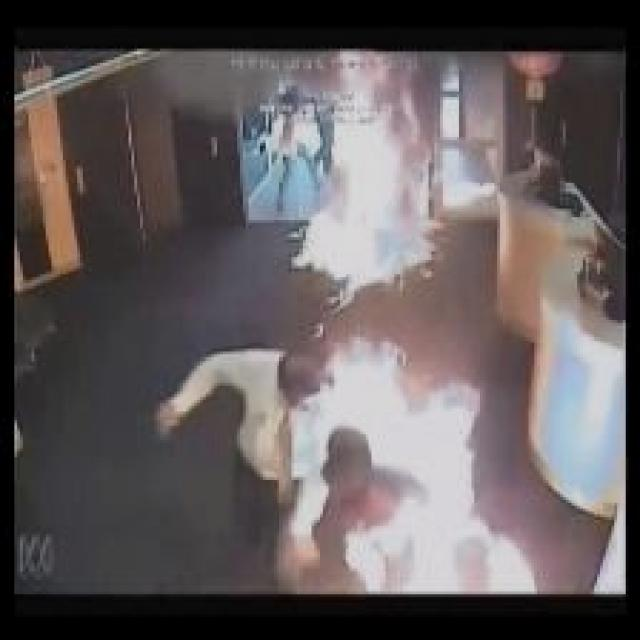fire: (283, 324, 526, 592), (270, 53, 450, 310)
